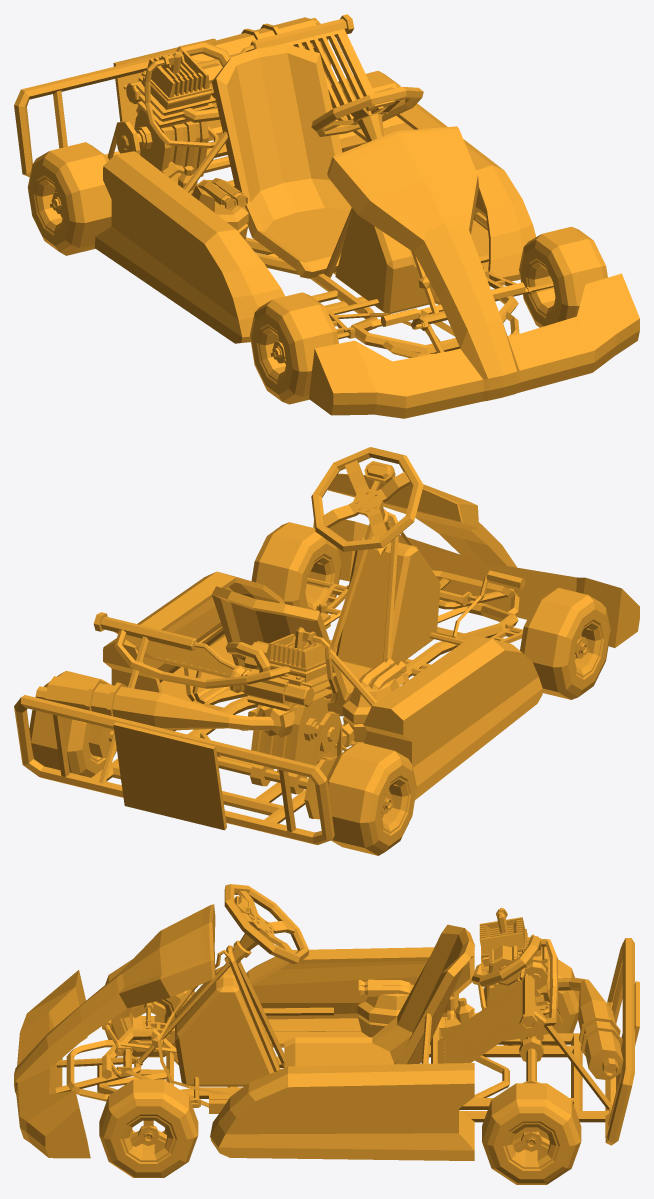
File: SM_Car_GoKart_Racing.fbx
The picture shows the model from 3 angles, top to bottom: view 1: azimuth 30°, elevation 25°; view 2: azimuth 150°, elevation 25°; view 3: azimuth 270°, elevation 25°; orthographic projection. The views are drawn at different scales.
Parts seen in each view (by area): view 1: SM_Car_GoKart_Racing_modern_Base, SM_Car_GoKart_Racing_modern_Wheel_RB, SM_Car_GoKart_Racing_modern_Wheel_RF, SM_Car_GoKart_Racing_modern_Wheel_LF, SM_Car_GoKart_Racing_modern_Wheel_LB; view 2: SM_Car_GoKart_Racing_modern_Base, SM_Car_GoKart_Racing_modern_Wheel_RB, SM_Car_GoKart_Racing_modern_Wheel_RF, SM_Car_GoKart_Racing_modern_Wheel_LF, SM_Car_GoKart_Racing_modern_Wheel_LB; view 3: SM_Car_GoKart_Racing_modern_Base, SM_Car_GoKart_Racing_modern_Wheel_LB, SM_Car_GoKart_Racing_modern_Wheel_LF, SM_Car_GoKart_Racing_modern_Wheel_RF, SM_Car_GoKart_Racing_modern_Wheel_RB.
Part boxes in pixels (<box>): SM_Car_GoKart_Racing_modern_Base: <box>14,14,639,418</box>; SM_Car_GoKart_Racing_modern_Wheel_RB: <box>27,142,111,255</box>; SM_Car_GoKart_Racing_modern_Wheel_RF: <box>250,292,338,404</box>; SM_Car_GoKart_Racing_modern_Wheel_LF: <box>519,226,607,327</box>; SM_Car_GoKart_Racing_modern_Wheel_LB: <box>331,70,400,147</box>; SM_Car_GoKart_Racing_modern_Base: <box>14,447,639,844</box>; SM_Car_GoKart_Racing_modern_Wheel_RB: <box>327,742,416,855</box>; SM_Car_GoKart_Racing_modern_Wheel_RF: <box>520,588,610,699</box>; SM_Car_GoKart_Racing_modern_Wheel_LF: <box>251,522,341,613</box>; SM_Car_GoKart_Racing_modern_Wheel_LB: <box>29,670,116,777</box>; SM_Car_GoKart_Racing_modern_Base: <box>14,884,639,1160</box>; SM_Car_GoKart_Racing_modern_Wheel_LB: <box>482,1083,581,1184</box>; SM_Car_GoKart_Racing_modern_Wheel_LF: <box>99,1079,198,1177</box>; SM_Car_GoKart_Racing_modern_Wheel_RF: <box>105,959,194,1057</box>; SM_Car_GoKart_Racing_modern_Wheel_RB: <box>482,955,579,1045</box>.
Size of the model in its own units: 1.33 by 0.873 by 2.26.
